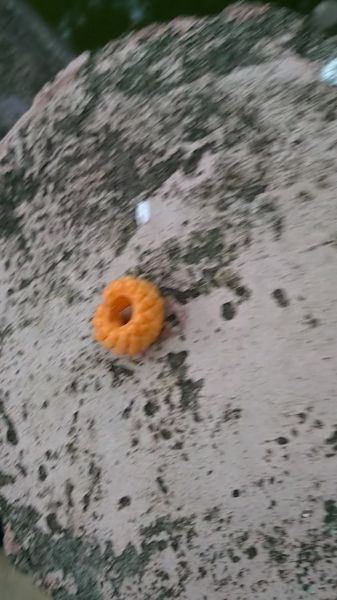eggs: (89, 272, 167, 357)
